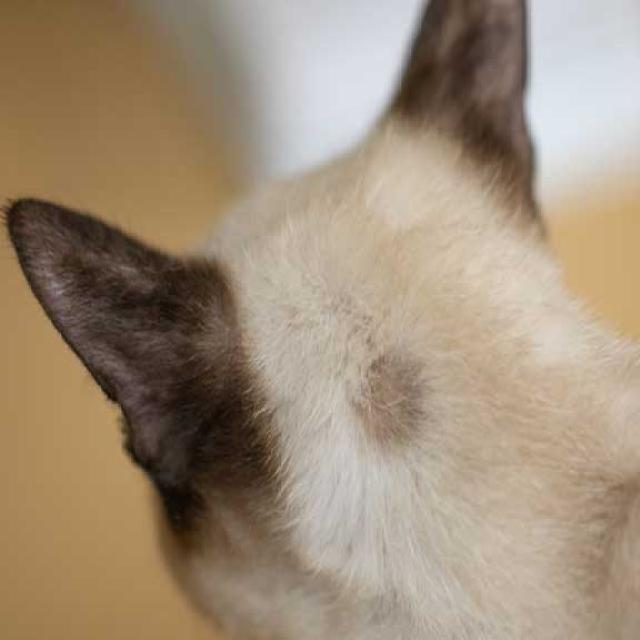Ringworm: (361, 366, 429, 447)
